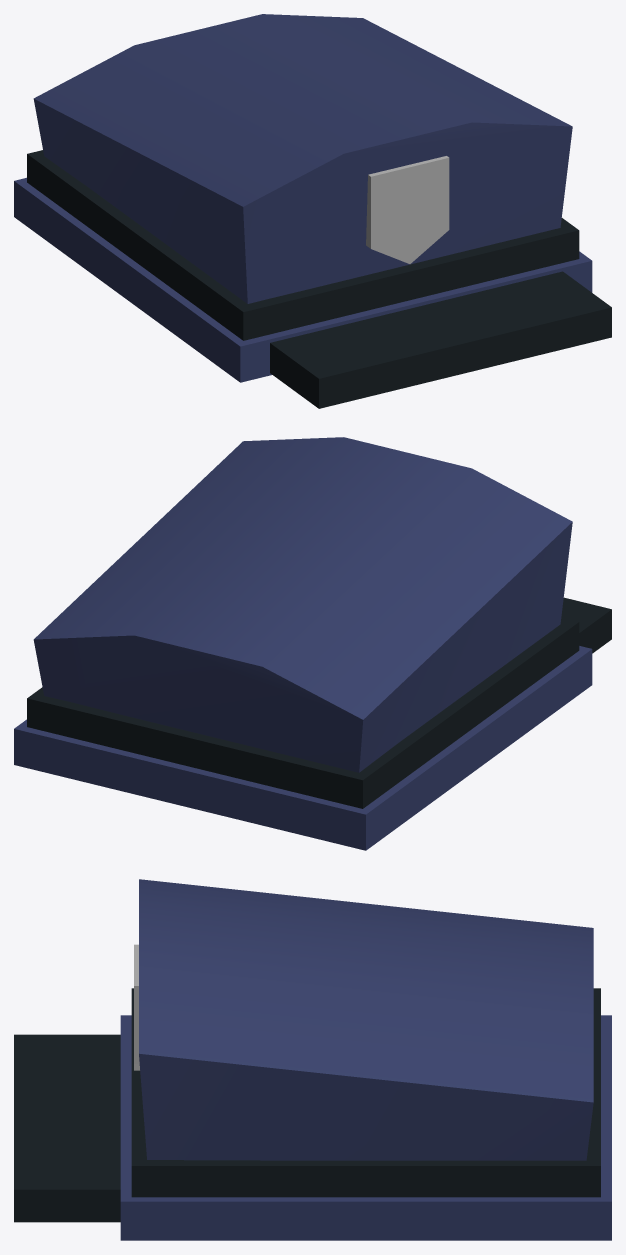
The model's file is Police Cap 01.FBX.
The picture shows the model from 3 angles, top to bottom: view 1: azimuth 30°, elevation 25°; view 2: azimuth 150°, elevation 25°; view 3: azimuth 270°, elevation 25°; orthographic projection. The views are drawn at different scales.
Visible parts, largest first — view 1: Police Cap 01; view 2: Police Cap 01; view 3: Police Cap 01.
Boxes of the visible parts, x1=… form: Police Cap 01: x1=14, y1=14, x2=611, y2=408; Police Cap 01: x1=14, y1=437, x2=611, y2=850; Police Cap 01: x1=14, y1=879, x2=611, y2=1240.
Bounding box in the file's own units: 62.09 × 84.19 × 32.97.
